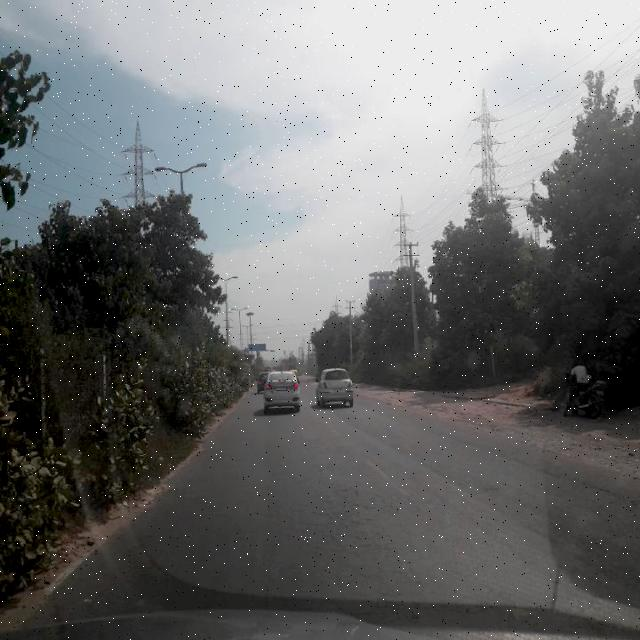D00: (420, 423, 633, 502)
D20: (66, 467, 640, 621)
D44: (364, 451, 416, 496)
